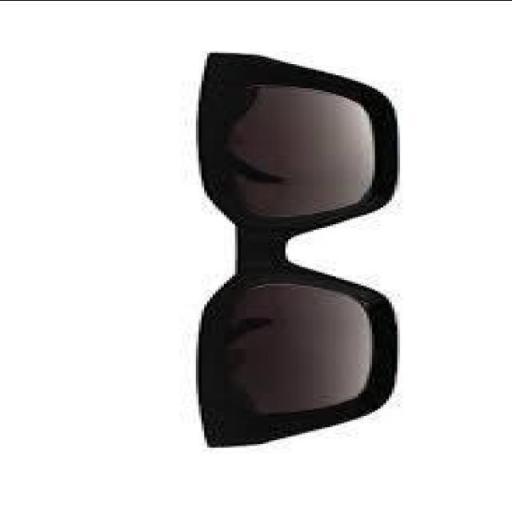glasses: (133, 38, 432, 464)
